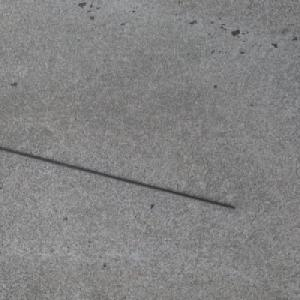LuggagePart: (0, 147, 235, 210)
